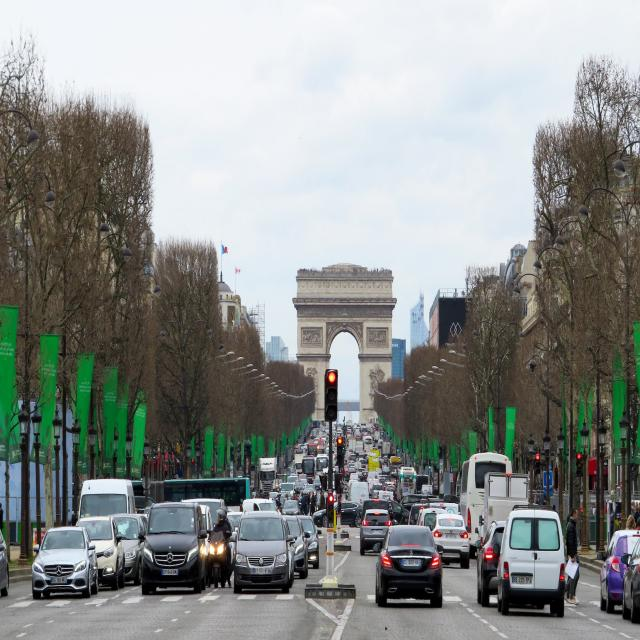Truck: (80, 477, 136, 568), (258, 458, 277, 497), (294, 454, 306, 478)
bus: (459, 452, 513, 558), (302, 457, 314, 482), (316, 455, 328, 478), (308, 444, 318, 460)
car: (142, 501, 203, 588), (235, 512, 292, 594), (33, 526, 96, 598)
motorcycle: (208, 532, 230, 586)
